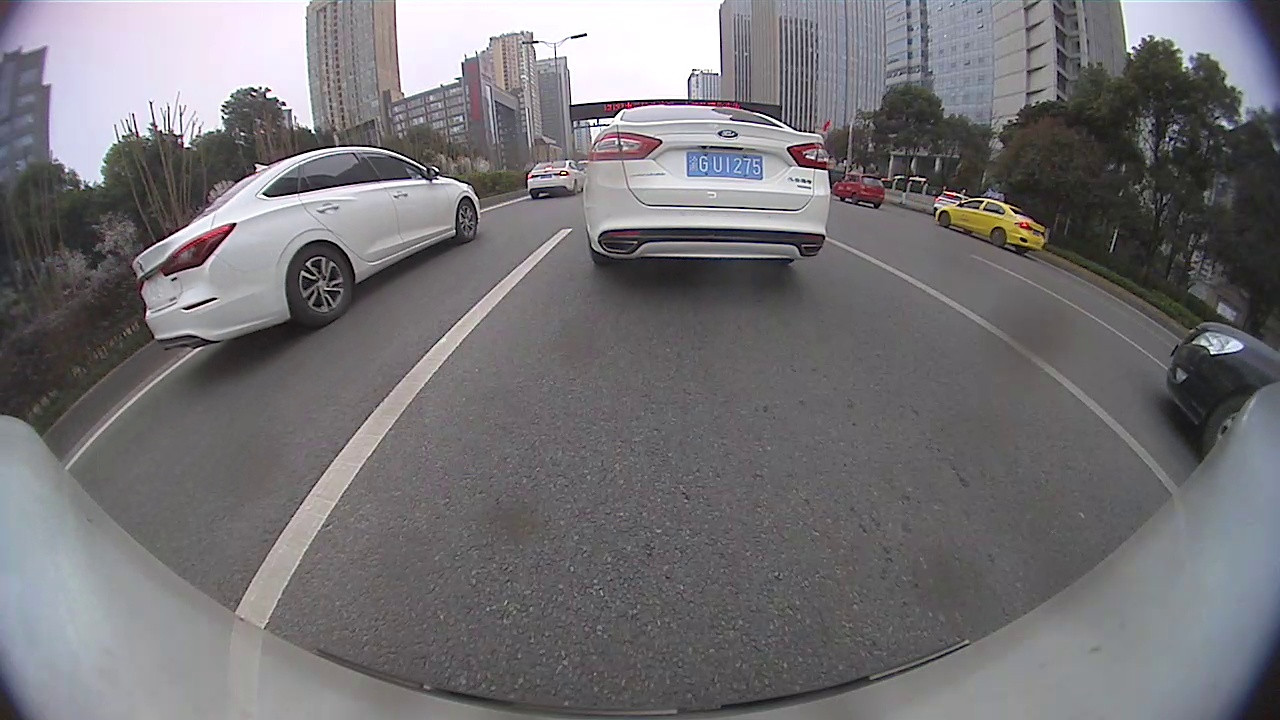car: (131, 145, 483, 353), (584, 104, 832, 267), (1163, 320, 1279, 461), (934, 197, 1046, 255), (526, 159, 586, 201), (832, 172, 886, 210)
front: (453, 195, 480, 244), (933, 208, 951, 231)
rear: (285, 240, 358, 322), (988, 226, 1010, 249)
